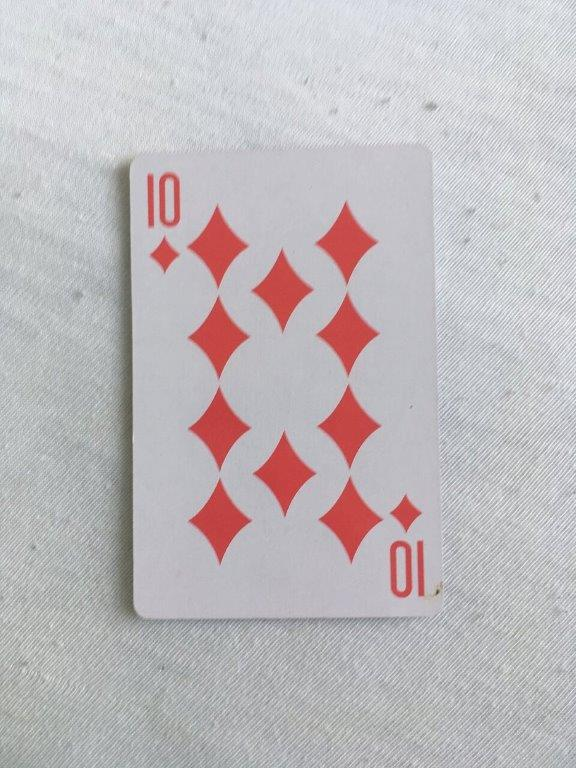10D: (125, 141, 447, 623)
